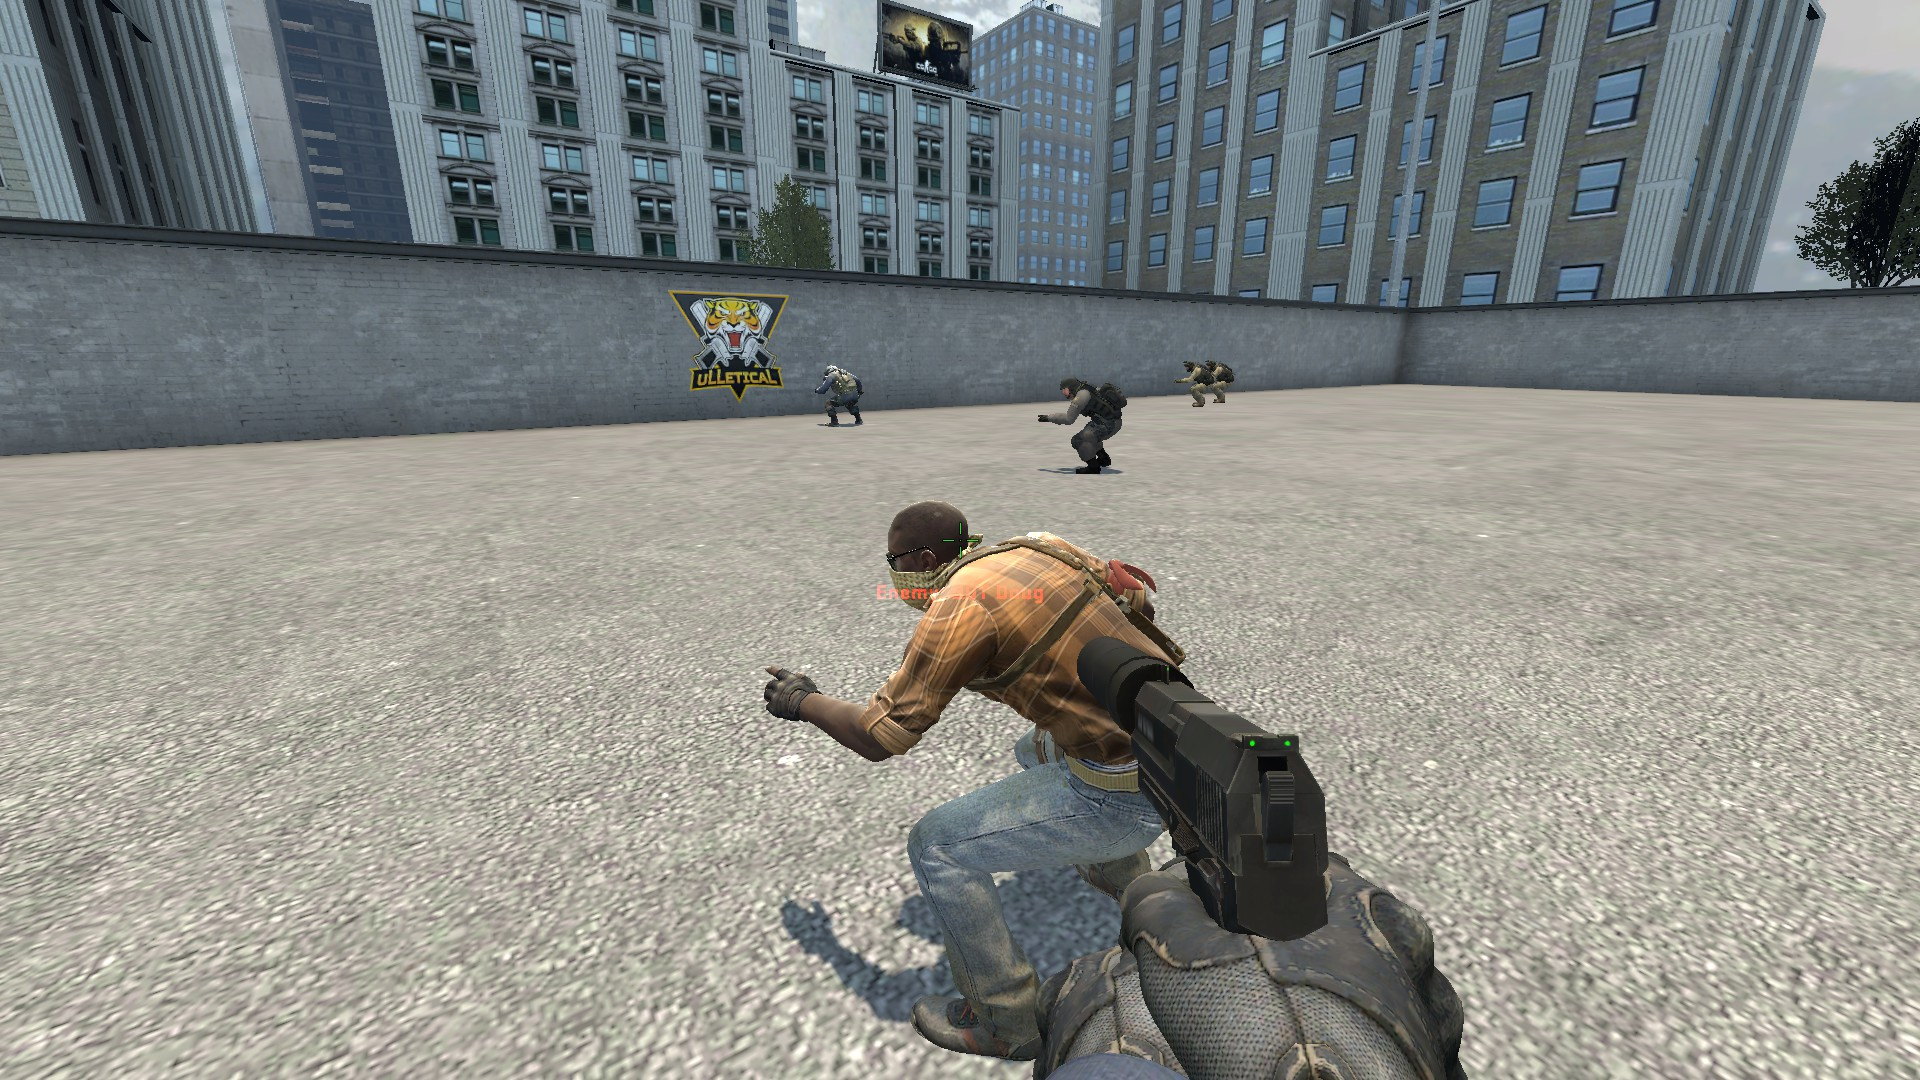tr: (759, 499, 1209, 1063)
tr head: (875, 493, 981, 617)
